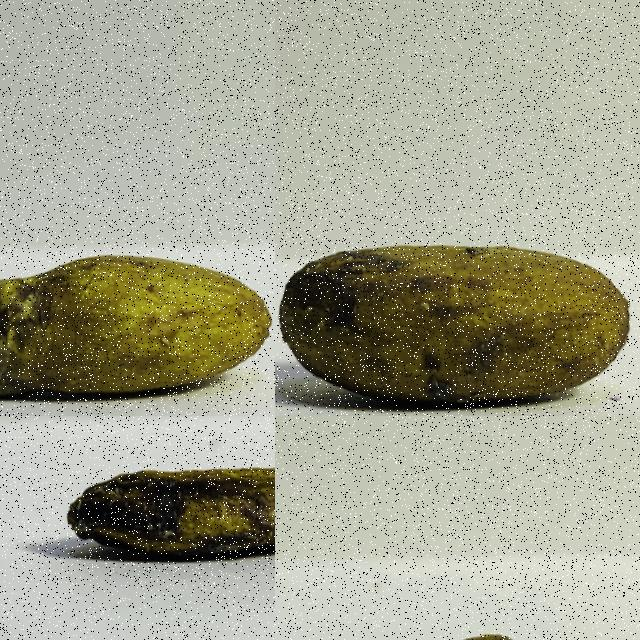Fine_cocoabeans: (275, 205, 639, 415), (0, 224, 274, 415)
Flat_cocoabeans: (0, 416, 274, 639), (275, 553, 571, 639)
